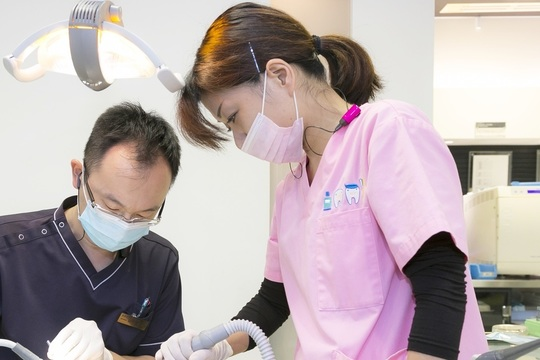mask: (78, 202, 152, 250), (242, 114, 305, 164)
